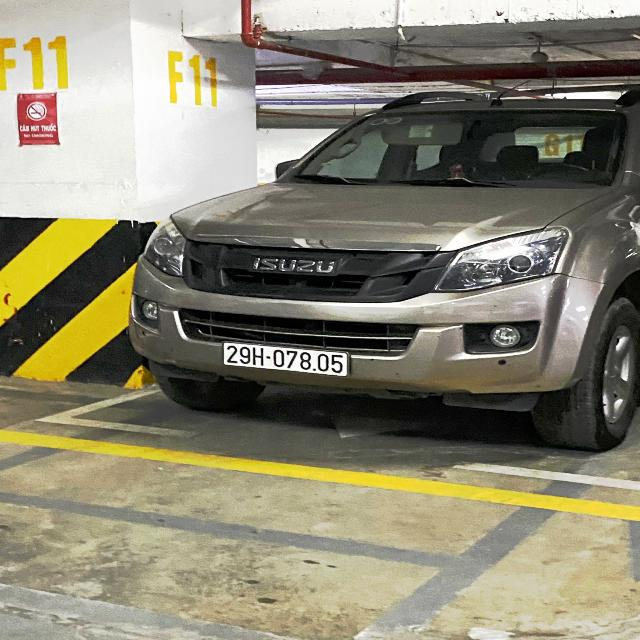license_plate: (218, 341, 356, 384)
